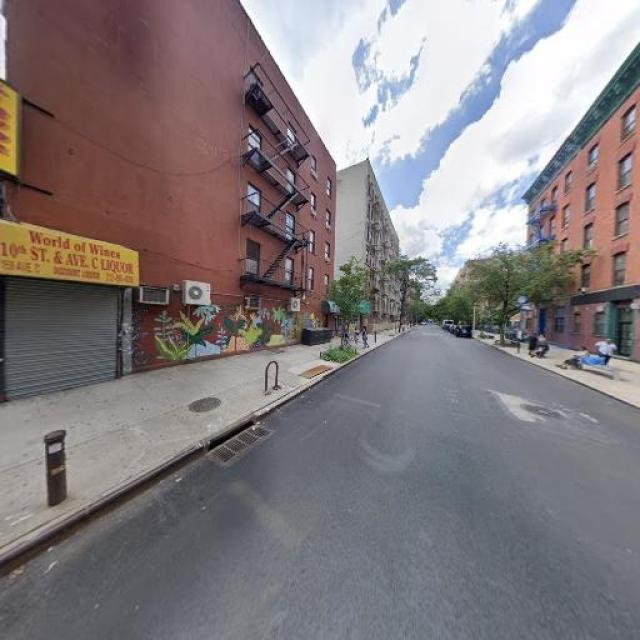Building: (17, 1, 333, 397), (582, 52, 640, 358), (532, 133, 575, 347), (369, 162, 390, 330)
